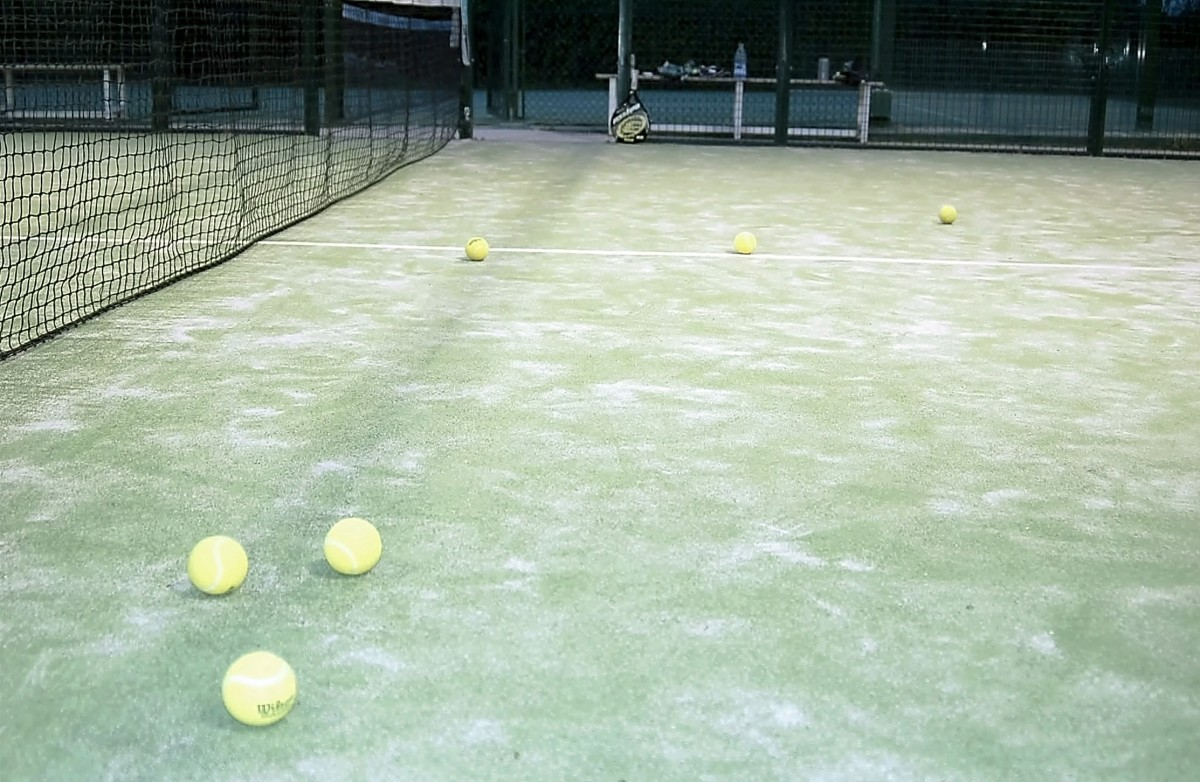tennis_ball: (221, 648, 301, 730), (185, 534, 248, 600), (321, 517, 382, 581), (730, 230, 762, 258), (460, 235, 492, 261), (938, 204, 956, 226)
